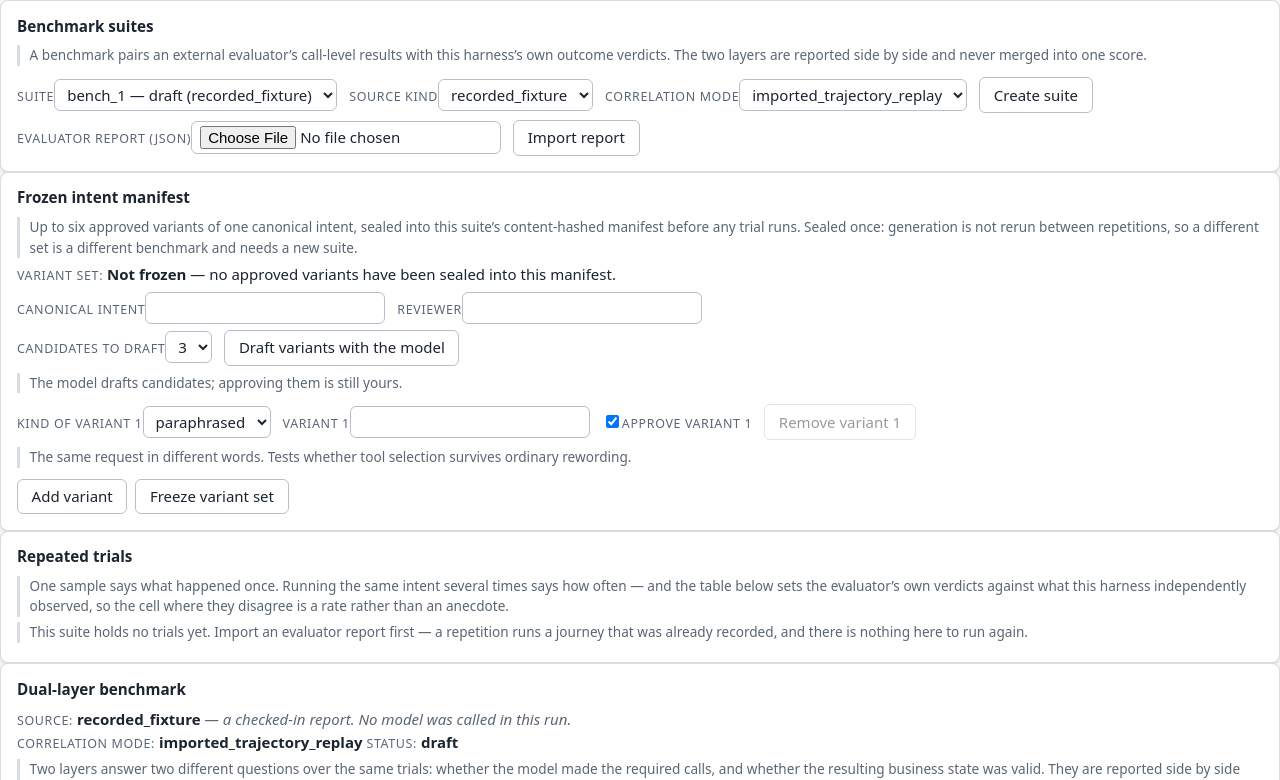
BenchmarkSection — drafting variants with the model › reports a model that proposed nothing as a result, not a blank form
The image size is (1280, 780).
Type "Add one ceramic mug to the cart and apply the SAVE20 discount." into the field labelled "Canonical intent" at (265, 308), box [145,292,385,324]
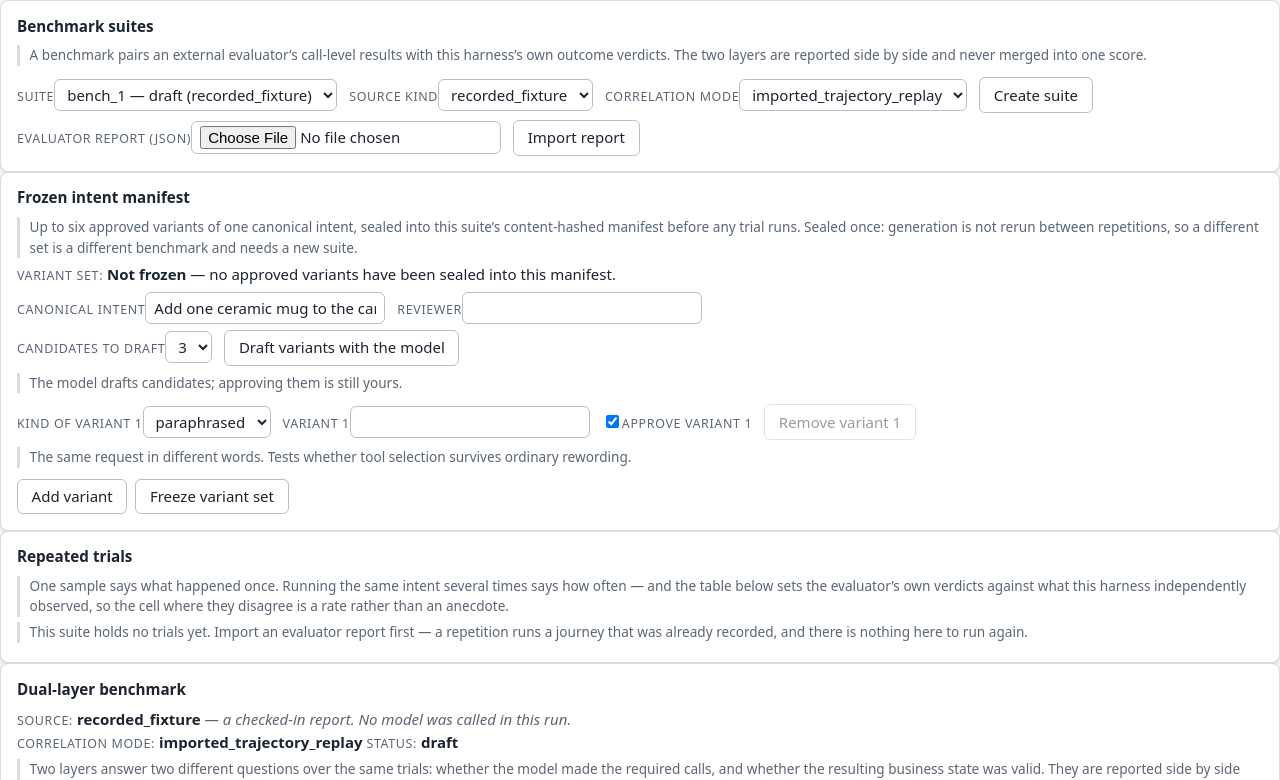
Click the button "Draft variants with the model" at (342, 348), box [224,330,460,366]
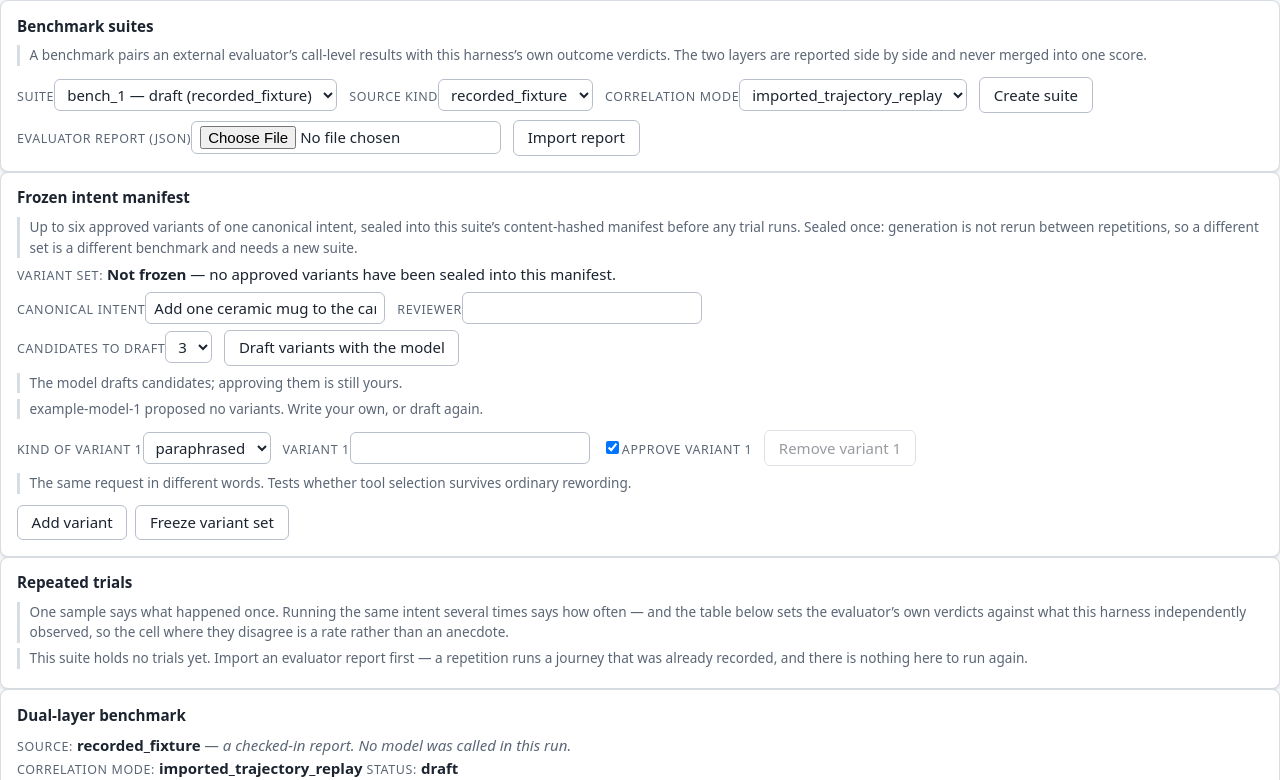
expect the field labelled "Variant 1" is empty: met, box [350,432,590,464]
expect the text "example-model-1 proposed no variants. Write your own, or draft again." is shown: met, box [17,399,1263,419]
